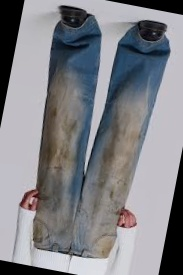earth: (39, 108, 72, 169), (100, 122, 138, 174)
